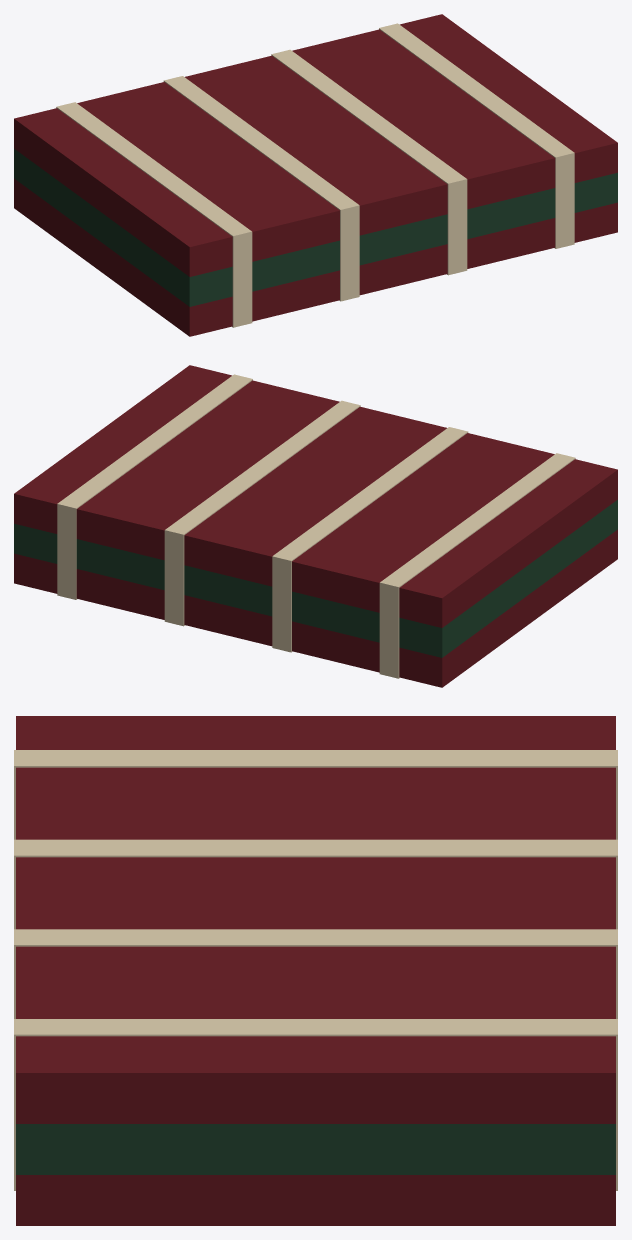
Rendered from blanket.glb.
3 renders of one model, top to bottom at view 1: azimuth 30°, elevation 25°; view 2: azimuth 150°, elevation 25°; view 3: azimuth 270°, elevation 25°, orthographic. The views are drawn at different scales.
Parts seen in each view (by area): view 1: Part2, Part1, Part0, Part3, Part5, Part4, Part6; view 2: Part2, Part1, Part0, Part3, Part5, Part4, Part6; view 3: Part2, Part0, Part1, Part4, Part6, Part3, Part5.
Part boxes in pixels (x1,y1,x2,y2): Part2: (14,14,617,276); Part1: (14,148,617,306); Part0: (14,178,617,336); Part3: (56,102,252,327); Part5: (271,49,467,275); Part4: (163,76,359,301); Part6: (379,23,574,248); Part2: (14,365,617,627); Part1: (14,499,617,657); Part0: (14,529,617,687); Part3: (379,453,575,678); Part5: (164,400,360,626); Part4: (272,427,468,652); Part6: (57,374,252,599); Part2: (16,716,615,1123); Part0: (16,1175,615,1225); Part1: (16,1124,615,1174); Part4: (14,839,617,929); Part6: (14,1019,617,1190); Part3: (14,750,617,839); Part5: (14,929,617,1018).
Size of the model in its own units: 0.45 by 0.092 by 0.322.
